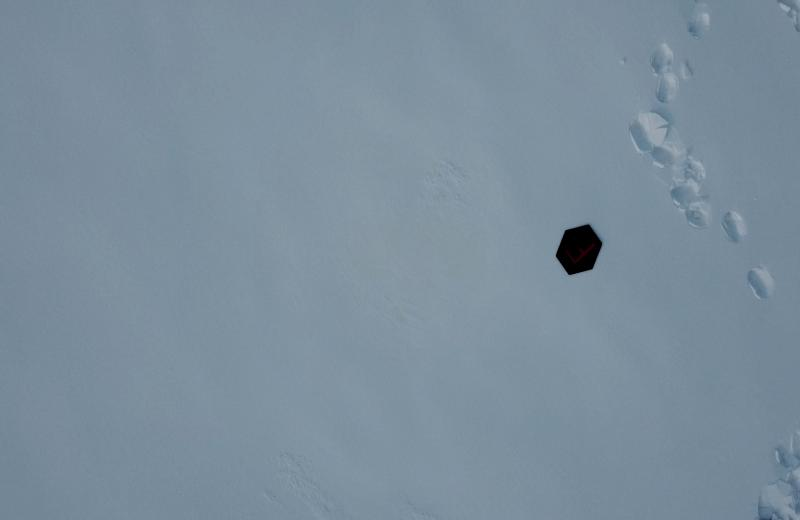Hexagon: (557, 223, 602, 276)
